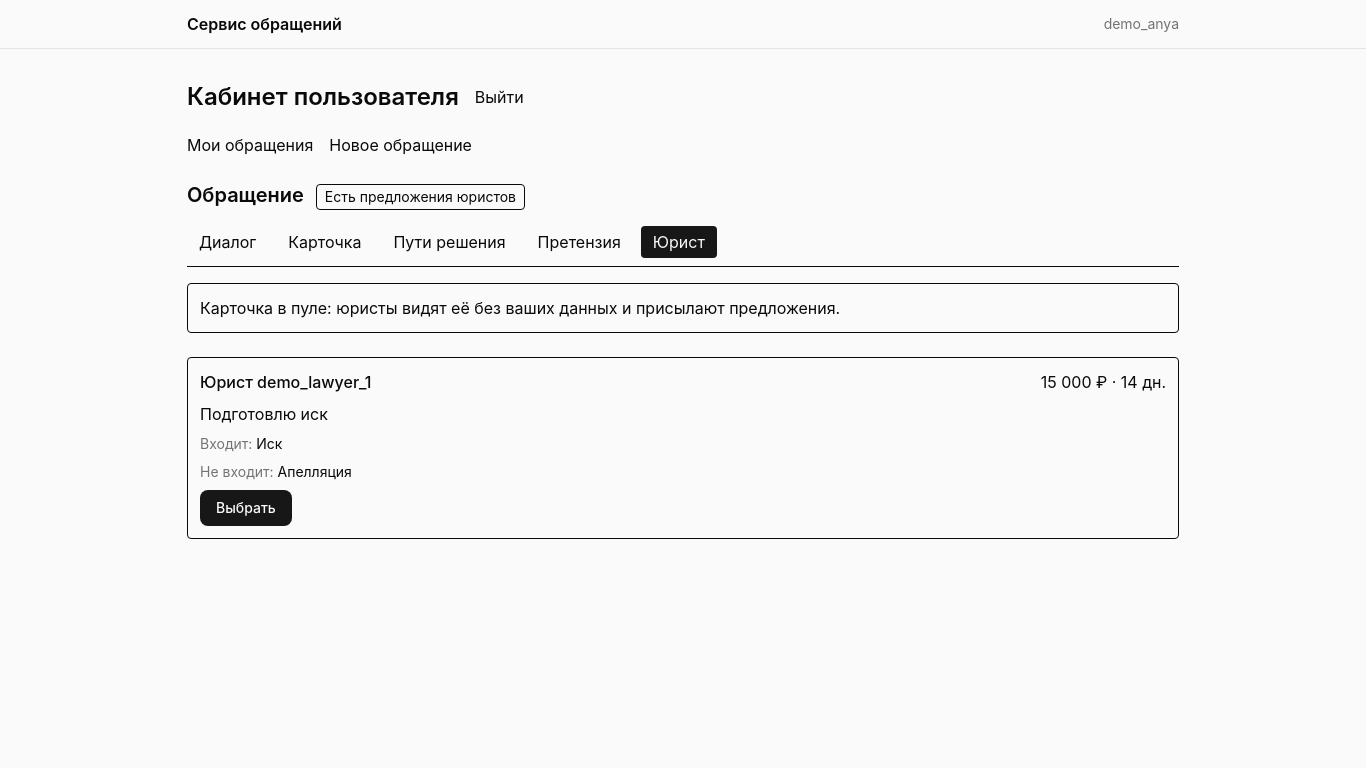
it: F9 offers and work › accepts an offer with consent and data for the lawyer
Later steps or results of the test are not shown.
Expected: the text "15 000 ₽ · 14 дн." is shown, left=1041, top=370, right=1166, bottom=394
What coordinates should you click on to do the following:
click the button "Выбрать"
I would click on:
 (246, 508)
Its box is left=200, top=490, right=292, bottom=526.
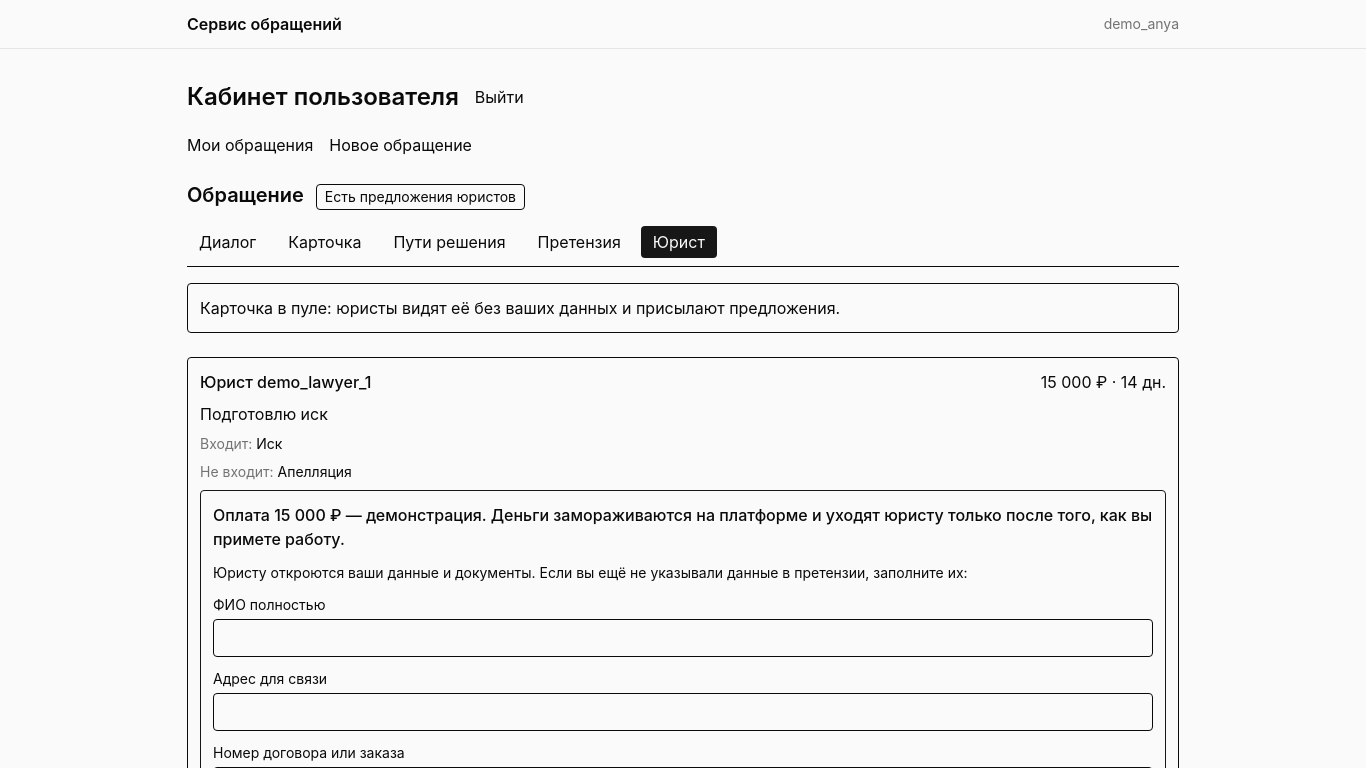
Now the text "демонстрация" is shown, box left=213, top=505, right=1152, bottom=549
